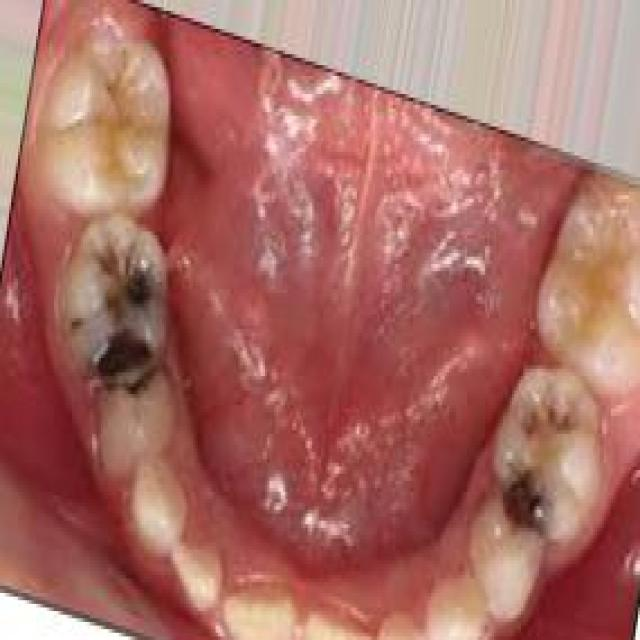caries: (56, 224, 177, 402), (484, 376, 588, 546)
